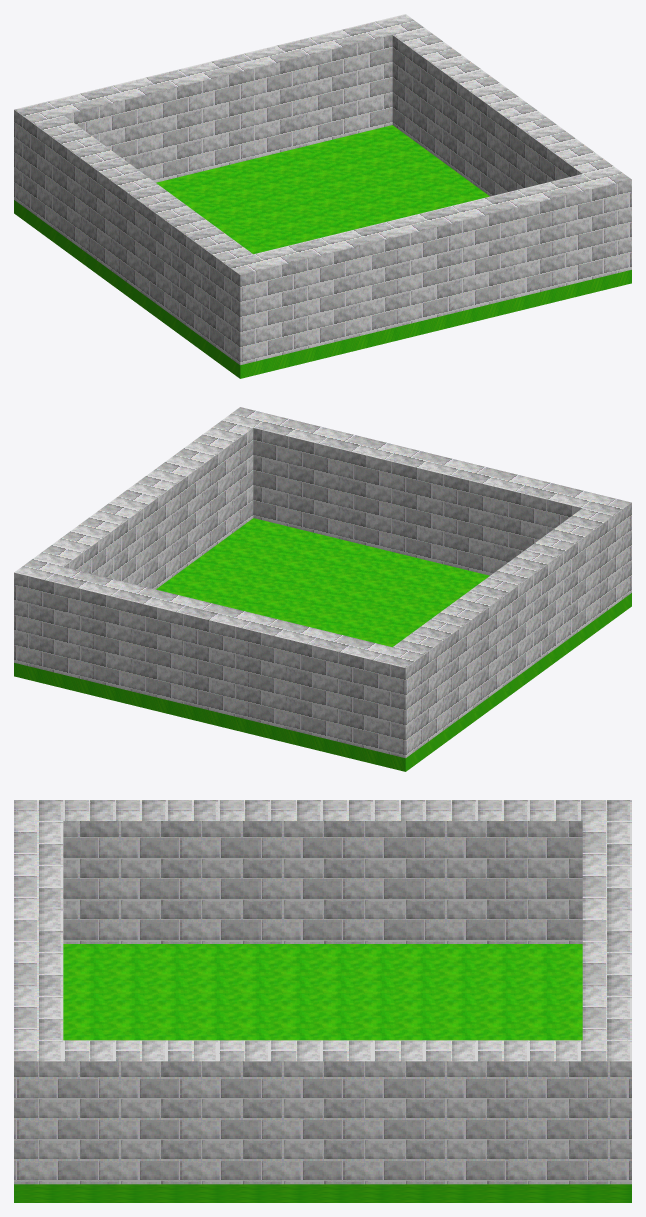
File: Level.fbx
The picture shows the model from 3 angles, top to bottom: view 1: azimuth 30°, elevation 25°; view 2: azimuth 150°, elevation 25°; view 3: azimuth 270°, elevation 25°; orthographic projection. The views are drawn at different scales.
Parts seen in each view (by area): view 1: Cube; view 2: Cube; view 3: Cube.
Part boxes in pixels (<box>): Cube: <box>14,14,631,378</box>; Cube: <box>14,407,631,771</box>; Cube: <box>14,800,631,1202</box>.
Bounding box in the file's own units: 3000 × 759 × 3000.
2 materials, 2 textured.
